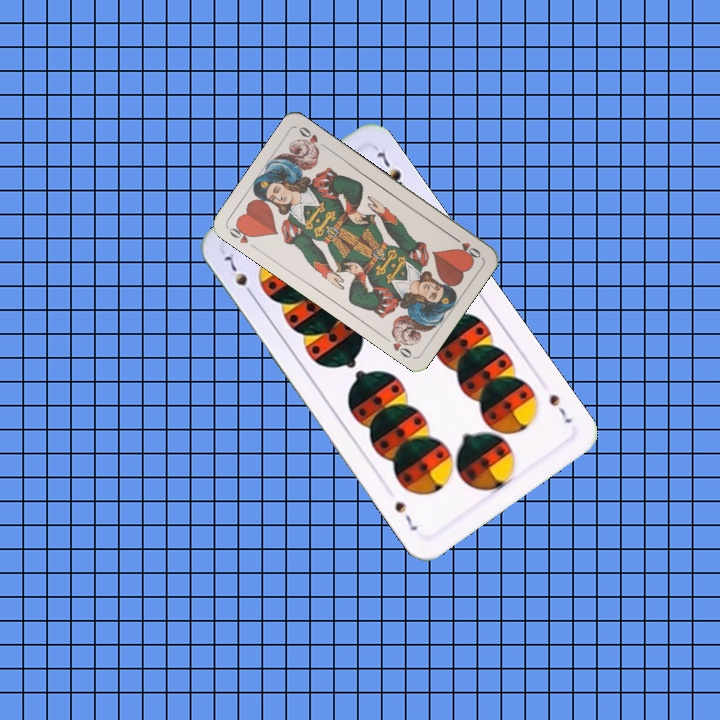HO: (224, 220, 260, 252), (448, 232, 484, 261)
S7: (219, 248, 258, 301), (545, 390, 575, 426)
